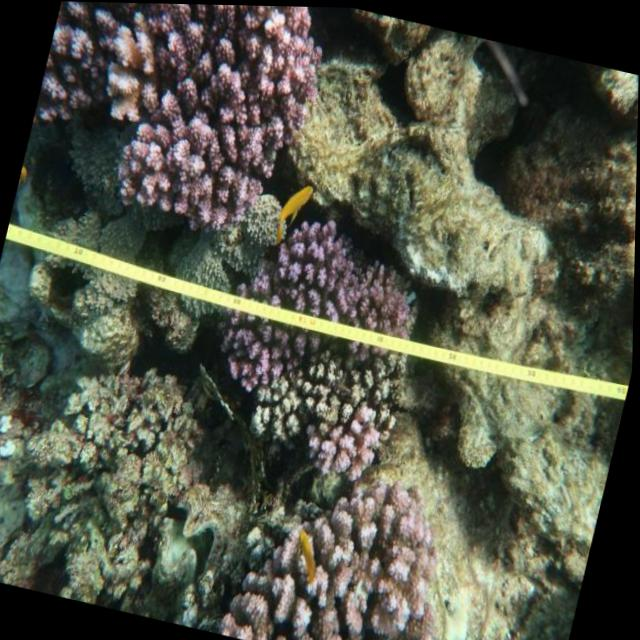Healthy Coral: (20, 0, 333, 235), (180, 224, 431, 477), (210, 455, 465, 640)
